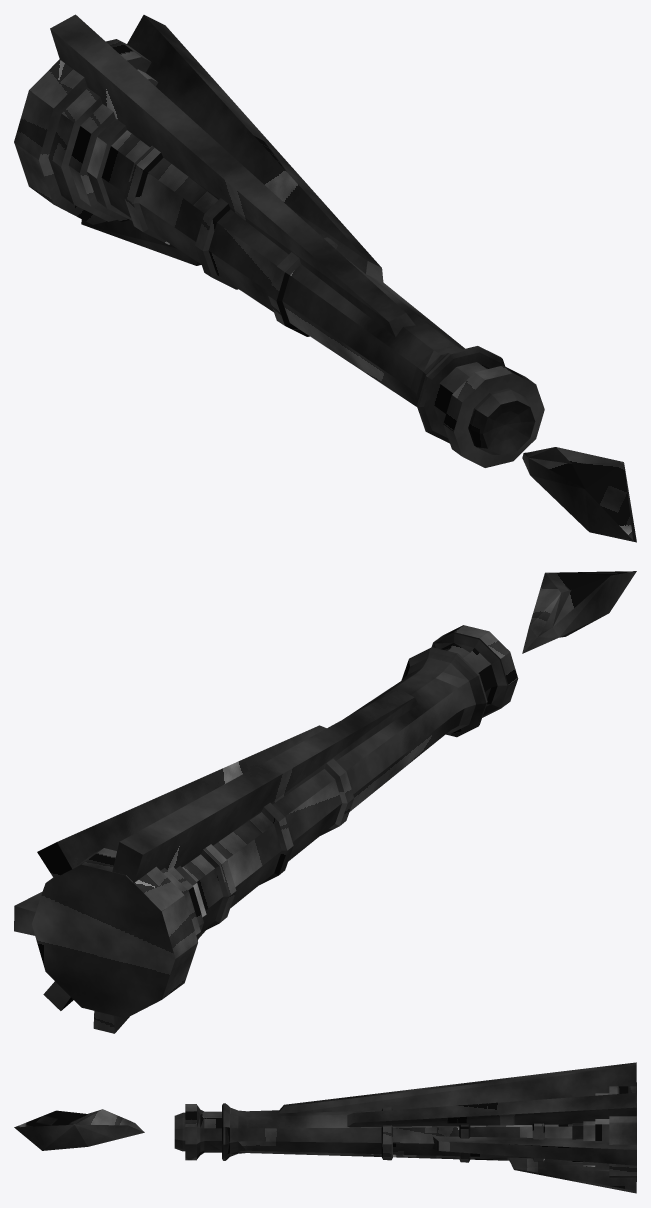
File: chrono_tower_6.gltf
3 renders of one model, top to bottom at view 1: azimuth 30°, elevation 25°; view 2: azimuth 150°, elevation 25°; view 3: azimuth 270°, elevation 25°, orthographic. The views are drawn at different scales.
Parts seen in each view (by area): view 1: Crystal_Lighthouse_001_lambert1_0; view 2: Crystal_Lighthouse_001_lambert1_0; view 3: Crystal_Lighthouse_001_lambert1_0.
Part boxes in pixels (<box>): Crystal_Lighthouse_001_lambert1_0: <box>14,14,636,542</box>; Crystal_Lighthouse_001_lambert1_0: <box>14,571,636,1033</box>; Crystal_Lighthouse_001_lambert1_0: <box>14,1062,636,1193</box>.
Bounding box in the file's own units: 11.45 × 13.1 × 63.15.
1 material, 1 textured.
